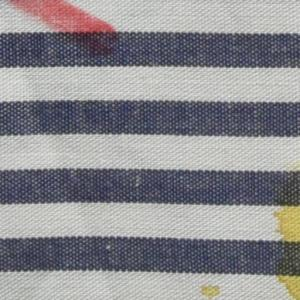Oil Stain: (275, 163, 300, 300), (201, 283, 222, 300)
Stain: (5, 1, 126, 61)
